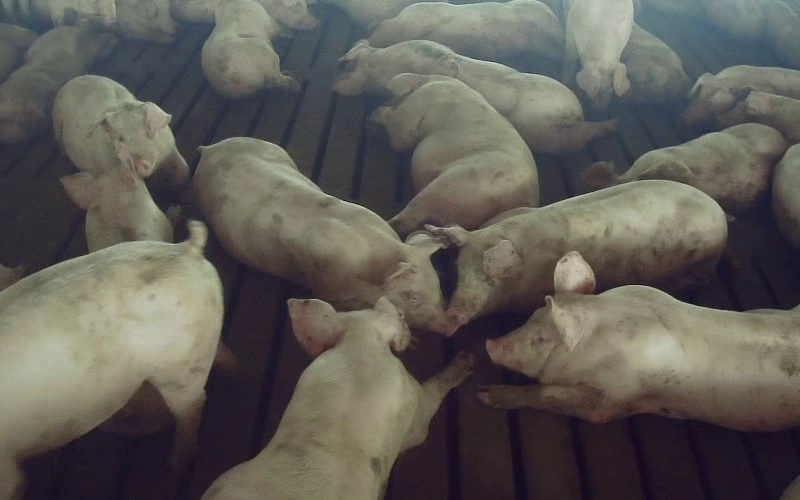pig: (0, 223, 222, 499), (203, 297, 473, 499), (193, 137, 445, 330), (427, 180, 724, 327), (332, 40, 616, 155), (372, 73, 537, 234), (581, 123, 786, 210), (53, 75, 188, 182), (0, 26, 116, 141), (369, 0, 563, 61), (201, 0, 298, 98), (563, 0, 633, 109), (684, 65, 799, 123)
